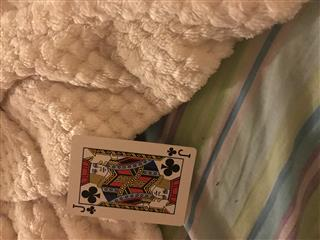JackOfClubs: (65, 134, 197, 226)
